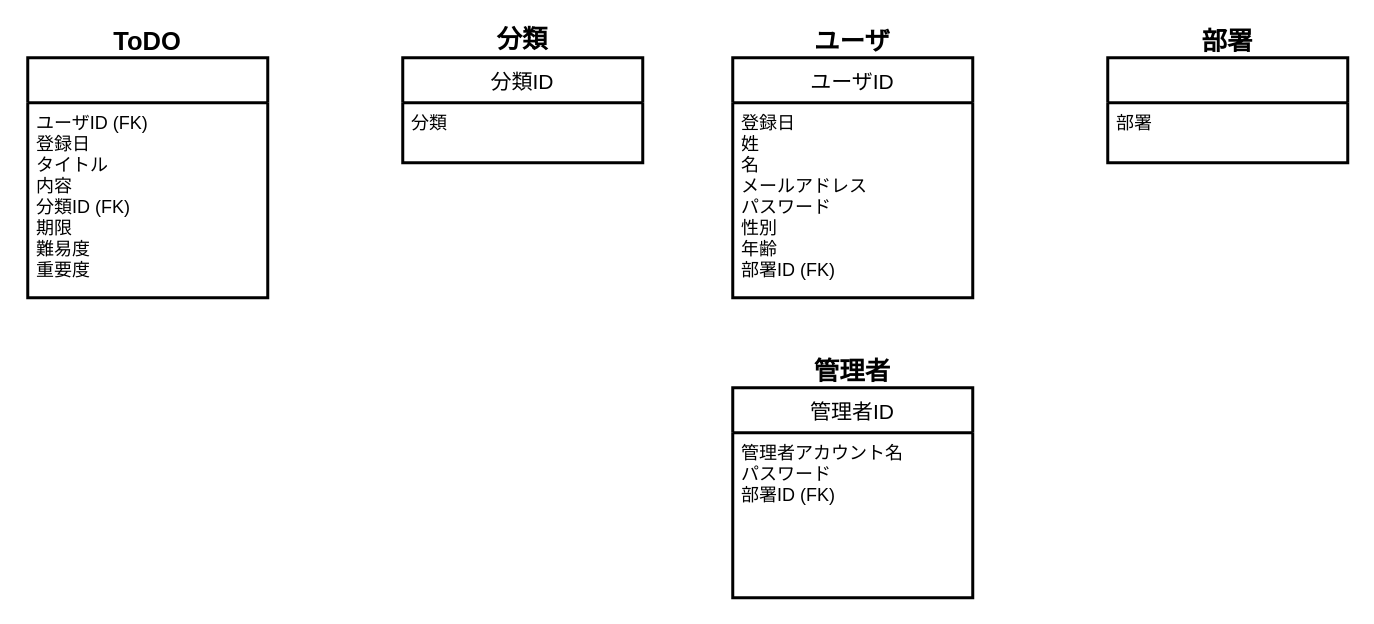
The diagram is 1374 pixels wide and 624 high, and some of its shapes have lost their labels. The box of each missing label's shape, as (x1, y1, x2, y2) in pixels:
ToDoID: (26, 56, 268, 298)
部署ID: (1106, 56, 1348, 164)
